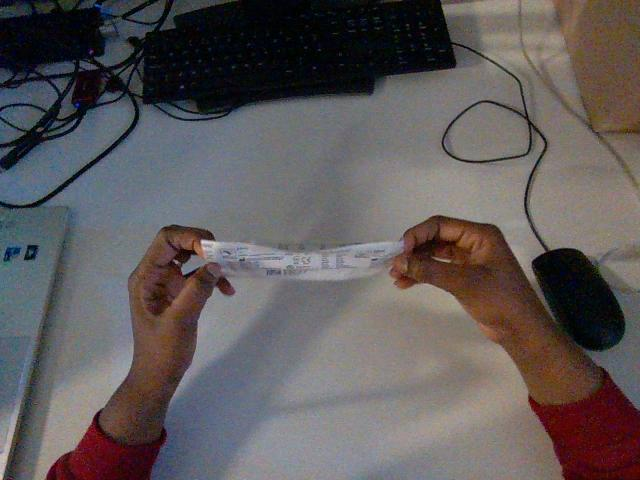syringe: (201, 240, 402, 280)
